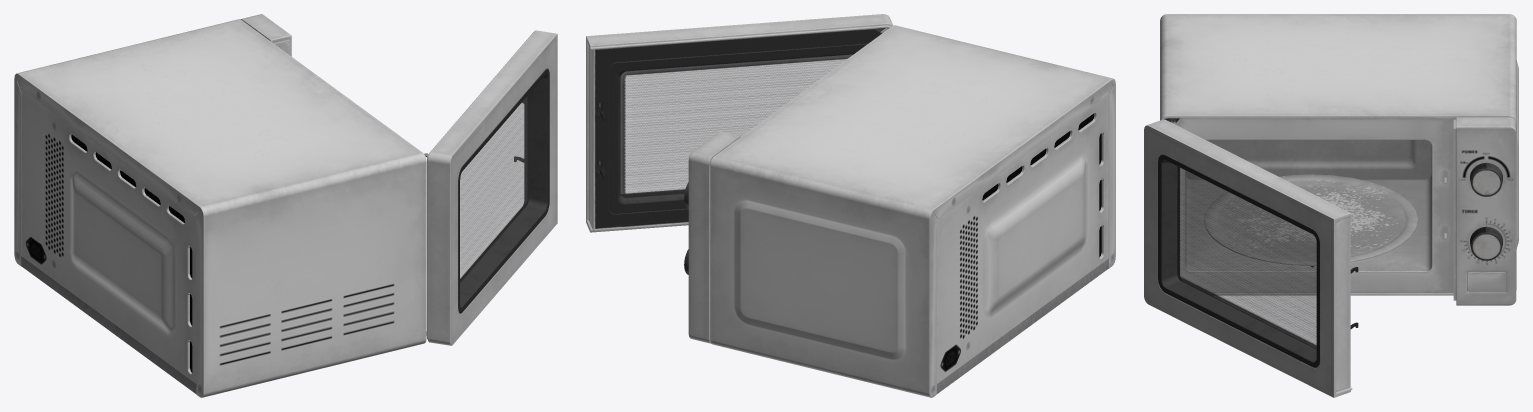
The model's file is microwave.glb.
3 views of the same model, side by side, from view 1: azimuth 30°, elevation 25°; view 2: azimuth 150°, elevation 25°; view 3: azimuth 270°, elevation 25° (orthographic). The views are drawn at different scales.
Visible parts, largest first — view 1: Cube.001; view 2: Cube.001; view 3: Cube.001.
Boxes of the visible parts, x1,y1,x2,y2 form: Cube.001: (14, 14, 557, 397); Cube.001: (586, 14, 1115, 397); Cube.001: (1144, 14, 1518, 397).
Size of the model in its own units: 0.8089 by 0.3389 by 0.6192.
Materials: 2 (2 with a texture image).
